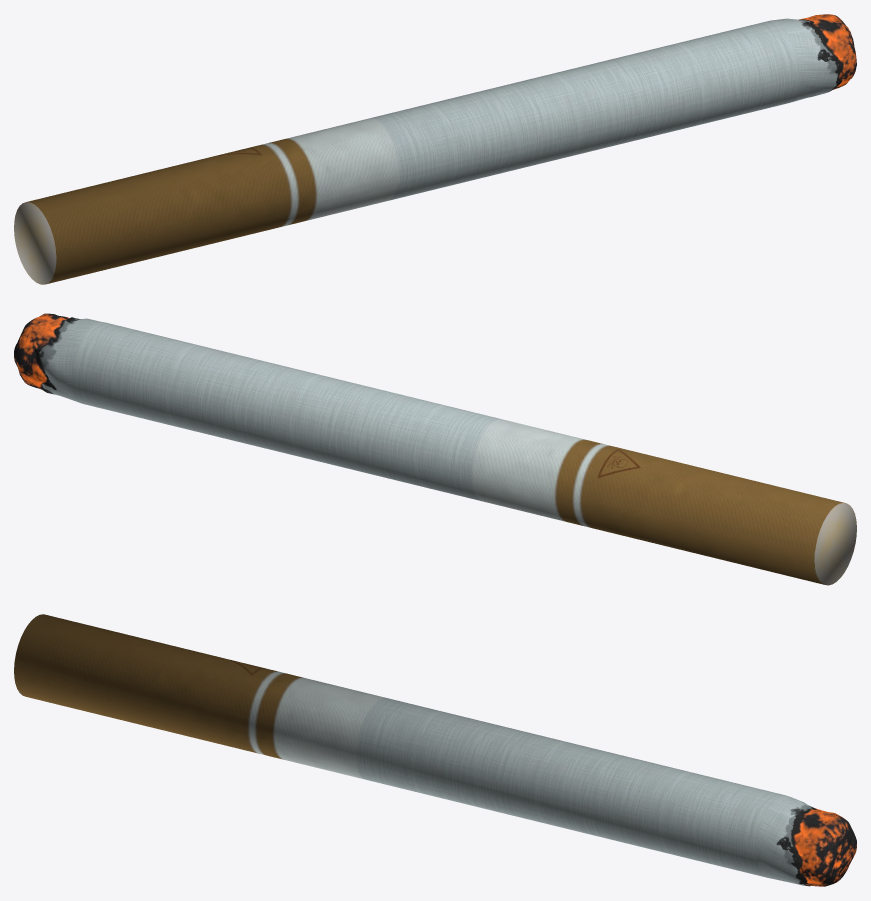
File: cigarette_-_daily3d.glb
The picture shows the model from 3 angles, top to bottom: view 1: azimuth 30°, elevation 25°; view 2: azimuth 150°, elevation 25°; view 3: azimuth 330°, elevation 25°; orthographic projection.
Visible parts, largest first — view 1: ember; view 2: ember; view 3: ember.
Part boxes in pixels (left/top/right/bottom): ember: left=14, top=14, right=856, bottom=284; ember: left=14, top=313, right=856, bottom=585; ember: left=14, top=614, right=856, bottom=886.
Size of the model in its own units: 0.1214 by 0.011 by 0.0111.
Materials: 1 (1 with a texture image).
